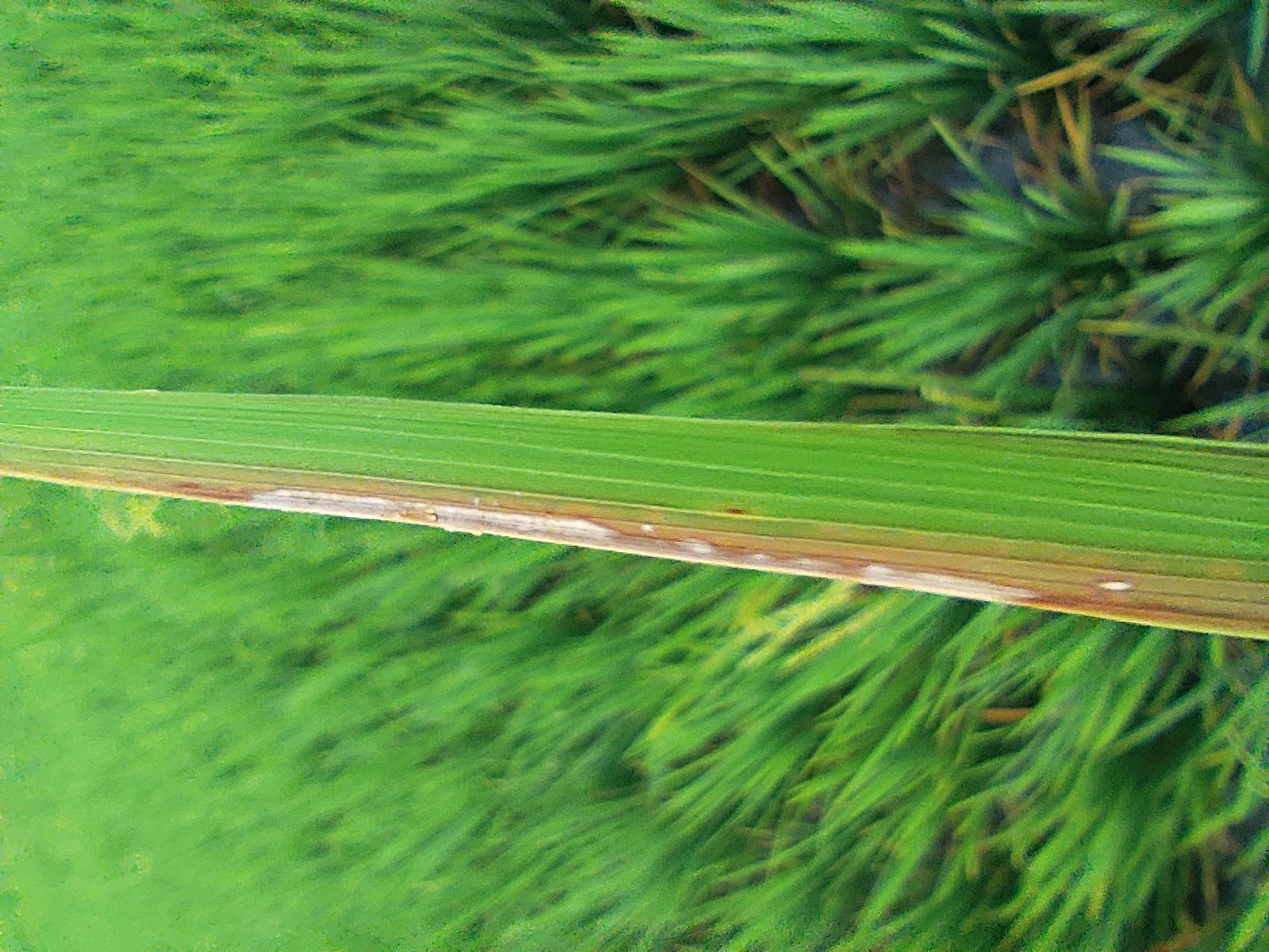BLB: (418, 36, 636, 951)
LEAF: (418, 0, 752, 951)
